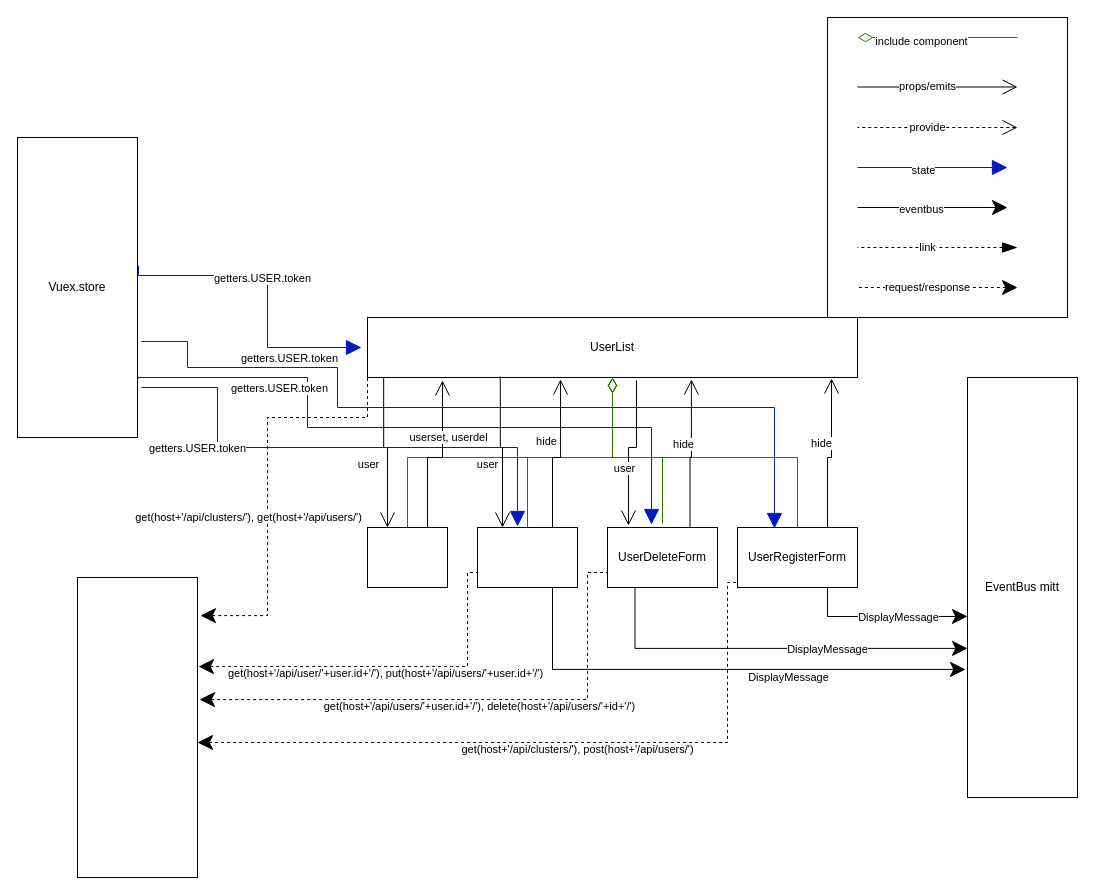
The diagram is 1095 pixels wide and 895 high, and some of its shapes have lost their labels. Each missing label, with the box of its shape:
Server: (76, 576, 198, 878)
UserEditForm: (476, 526, 578, 588)
UserInList: (366, 526, 448, 588)
